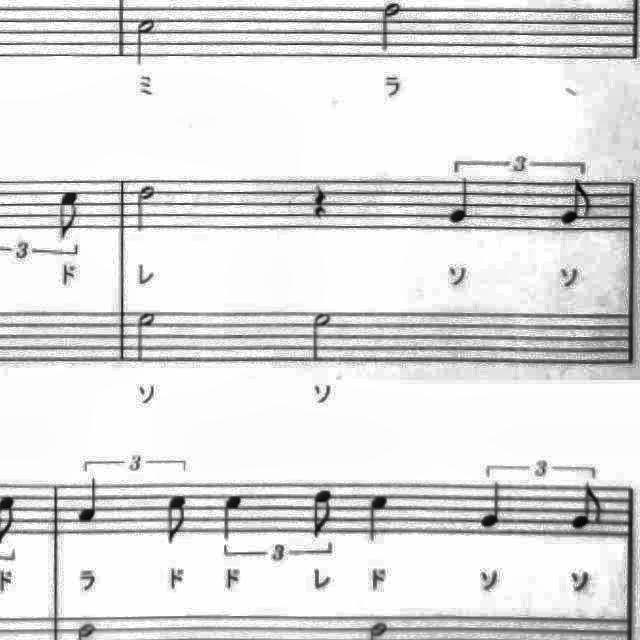Eighth-note: (566, 479, 610, 537), (554, 176, 598, 232), (304, 483, 341, 545), (160, 490, 196, 552), (52, 184, 88, 244)
Half-note: (304, 306, 341, 368), (130, 10, 166, 70), (372, 0, 408, 56), (130, 306, 163, 366), (130, 182, 162, 238)
Quarter-note: (473, 474, 515, 534), (361, 488, 399, 552), (443, 174, 481, 230), (215, 489, 249, 547), (74, 474, 108, 528)
Quarter-rest: (306, 178, 338, 226)
